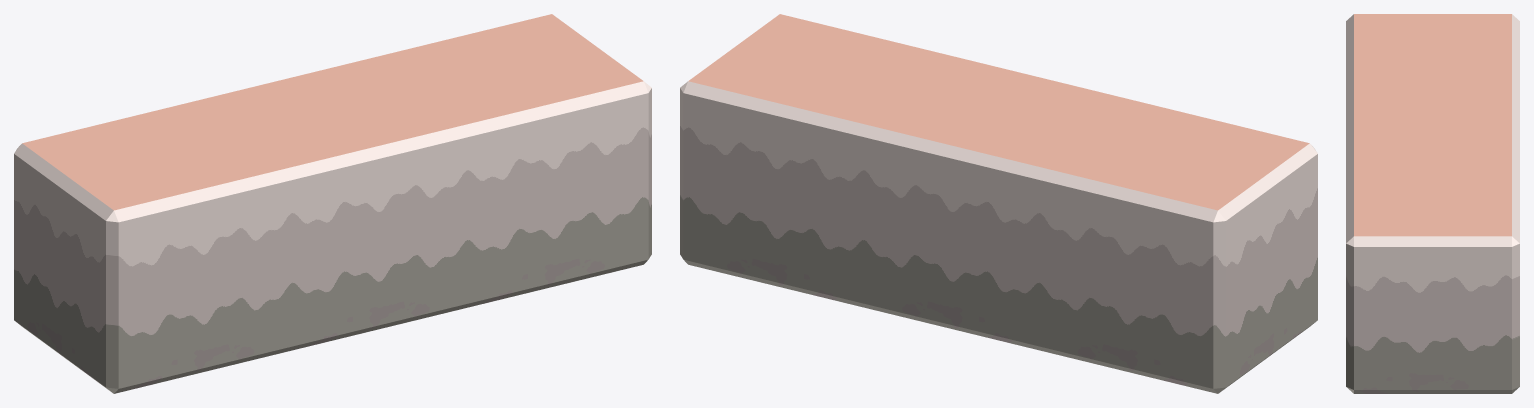
Rendered from R4B_Beam3_LOD1.glb.
3 views of the same model, side by side, from view 1: azimuth 30°, elevation 25°; view 2: azimuth 150°, elevation 25°; view 3: azimuth 270°, elevation 25° (orthographic). The views are drawn at different scales.
Parts seen in each view (by area): view 1: R4B_Beam3_LOD1; view 2: R4B_Beam3_LOD1; view 3: R4B_Beam3_LOD1.
Boxes of the visible parts, x1,y1,x2,y2 form: R4B_Beam3_LOD1: (14,14,651,393); R4B_Beam3_LOD1: (680,14,1317,393); R4B_Beam3_LOD1: (1346,14,1519,393).
Bounding box in the file's own units: 1.62 × 0.52 × 0.52.
Materials: 2 (2 with a texture image).
